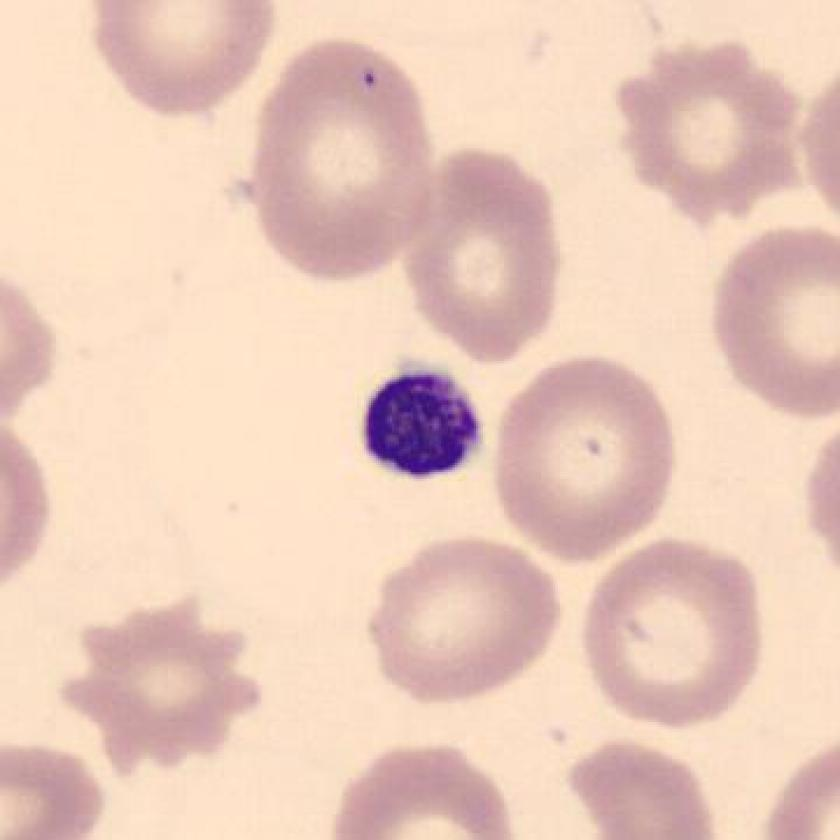platelets: (344, 360, 496, 499)
